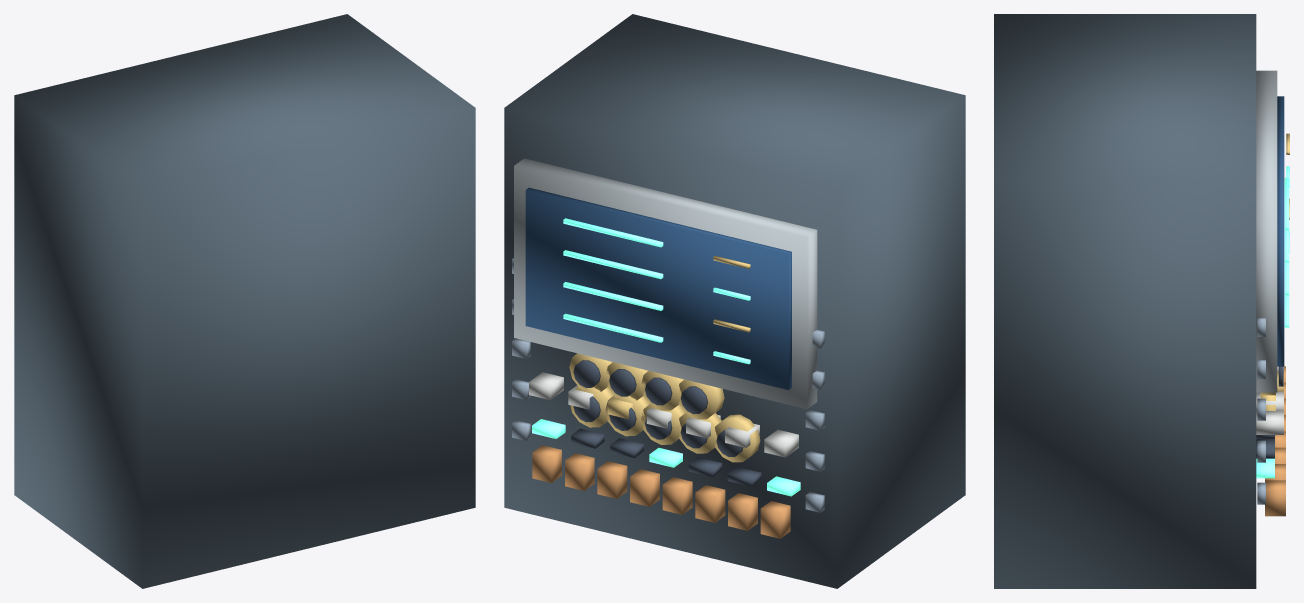
The model's file is L84_29_MagneticTorqueRodDriveController_Fitted.fbx.
The picture shows the model from 3 angles, left to right: view 1: azimuth 30°, elevation 25°; view 2: azimuth 150°, elevation 25°; view 3: azimuth 270°, elevation 25°; orthographic projection. The views are drawn at different scales.
Visible parts, largest first — view 1: L84_MagneticTorqueRodDriveController_Static__tint1C2933; view 2: L84_MagneticTorqueRodDriveController_Static__tint1C2933, L84_MagneticTorqueRodDriveController_Static__tint0B214A, L84_MagneticTorqueRodDriveController_Static__tint91A3AD, L84_MagneticTorqueRodDriveController_Static__tintCC6629, L84_MagneticTorqueRodDriveController_Static__tintF2B547, L84_MagneticTorqueRodDriveController_Static__tint131B26, L84_MagneticTorqueRodDriveController_Static__tint2BF0A8, L84_MagneticTorqueRodDriveController_Static__tintCCD4CF, L84_MagneticTorqueRodDriveController_Static__tint59738F; view 3: L84_MagneticTorqueRodDriveController_Static__tint1C2933, L84_MagneticTorqueRodDriveController_Static__tint91A3AD, L84_MagneticTorqueRodDriveController_Static__tint0B214A, L84_MagneticTorqueRodDriveController_Static__tintCC6629, L84_MagneticTorqueRodDriveController_Static__tint2BF0A8, L84_MagneticTorqueRodDriveController_Static__tint59738F, L84_MagneticTorqueRodDriveController_Static__tintCCD4CF, L84_MagneticTorqueRodDriveController_Static__tint131B26.
Boxes of the visible parts, x1=… form: L84_MagneticTorqueRodDriveController_Static__tint1C2933: x1=14, y1=14, x2=475, y2=588; L84_MagneticTorqueRodDriveController_Static__tint1C2933: x1=504, y1=14, x2=965, y2=588; L84_MagneticTorqueRodDriveController_Static__tint0B214A: x1=525, y1=187, x2=791, y2=389; L84_MagneticTorqueRodDriveController_Static__tint91A3AD: x1=514, y1=158, x2=817, y2=409; L84_MagneticTorqueRodDriveController_Static__tintCC6629: x1=532, y1=445, x2=790, y2=538; L84_MagneticTorqueRodDriveController_Static__tintF2B547: x1=569, y1=256, x2=760, y2=462; L84_MagneticTorqueRodDriveController_Static__tint131B26: x1=571, y1=360, x2=761, y2=486; L84_MagneticTorqueRodDriveController_Static__tint2BF0A8: x1=532, y1=218, x2=800, y2=496; L84_MagneticTorqueRodDriveController_Static__tintCCD4CF: x1=529, y1=372, x2=798, y2=457; L84_MagneticTorqueRodDriveController_Static__tint59738F: x1=512, y1=258, x2=824, y2=512; L84_MagneticTorqueRodDriveController_Static__tint1C2933: x1=994, y1=14, x2=1256, y2=588; L84_MagneticTorqueRodDriveController_Static__tint91A3AD: x1=1256, y1=70, x2=1277, y2=392; L84_MagneticTorqueRodDriveController_Static__tint0B214A: x1=1277, y1=96, x2=1284, y2=366; L84_MagneticTorqueRodDriveController_Static__tintCC6629: x1=1265, y1=366, x2=1285, y2=516; L84_MagneticTorqueRodDriveController_Static__tint2BF0A8: x1=1256, y1=166, x2=1289, y2=478; L84_MagneticTorqueRodDriveController_Static__tint59738F: x1=1257, y1=318, x2=1265, y2=504; L84_MagneticTorqueRodDriveController_Static__tintCCD4CF: x1=1256, y1=366, x2=1283, y2=434; L84_MagneticTorqueRodDriveController_Static__tint131B26: x1=1256, y1=366, x2=1283, y2=458.
Bounding box in the file's own units: 10.28 × 11.79 × 7.74.
